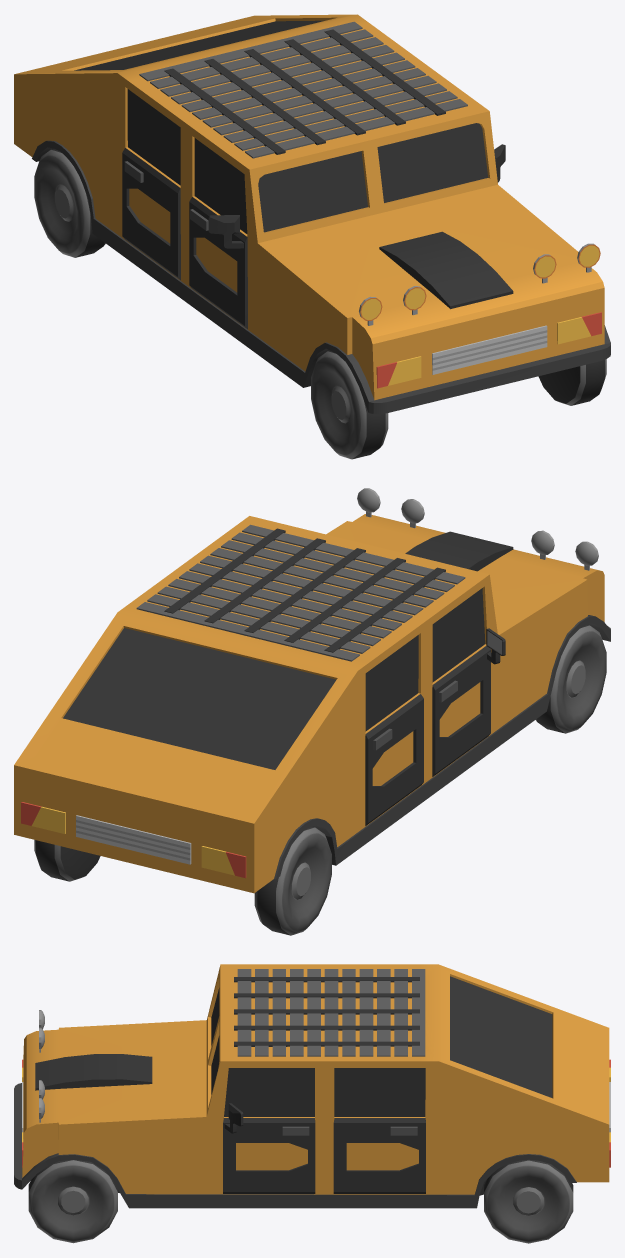
The model's file is jeep03_color02.fbx.
3 renders of one model, top to bottom at view 1: azimuth 30°, elevation 25°; view 2: azimuth 150°, elevation 25°; view 3: azimuth 270°, elevation 25°, orthographic. The views are drawn at different scales.
Parts seen in each view (by area): view 1: Plane.030, Plane.038, Plane.031, Plane.036; view 2: Plane.030, Plane.031, Plane.038, Plane.037; view 3: Plane.030, Plane.037, Plane.036.
Part boxes in pixels (x1,y1,x2,y2): Plane.030: (14, 14, 610, 413); Plane.038: (311, 350, 388, 459); Plane.031: (34, 149, 105, 257); Plane.036: (538, 359, 606, 405); Plane.030: (14, 488, 610, 893); Plane.031: (254, 826, 331, 935); Plane.038: (536, 624, 606, 733); Plane.037: (34, 840, 100, 881); Plane.030: (14, 964, 610, 1208); Plane.037: (484, 1159, 573, 1243); Plane.036: (28, 1160, 117, 1243).
Bounding box in the file's own units: 269 × 193 × 568.
